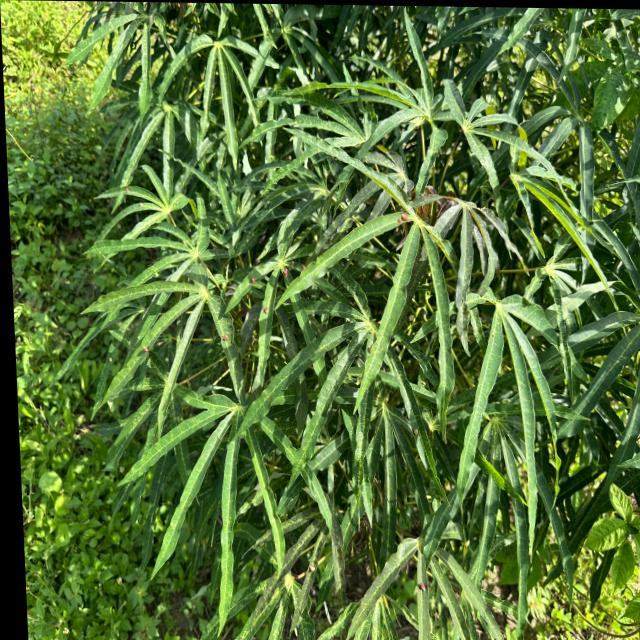Maleza: (6, 3, 74, 435), (21, 439, 128, 639), (596, 475, 640, 594)
Mosca: (274, 268, 296, 282), (397, 209, 412, 228), (413, 578, 430, 594), (305, 562, 321, 577), (222, 330, 236, 347), (246, 275, 259, 291), (138, 342, 152, 355), (411, 424, 423, 439), (256, 305, 270, 317)
